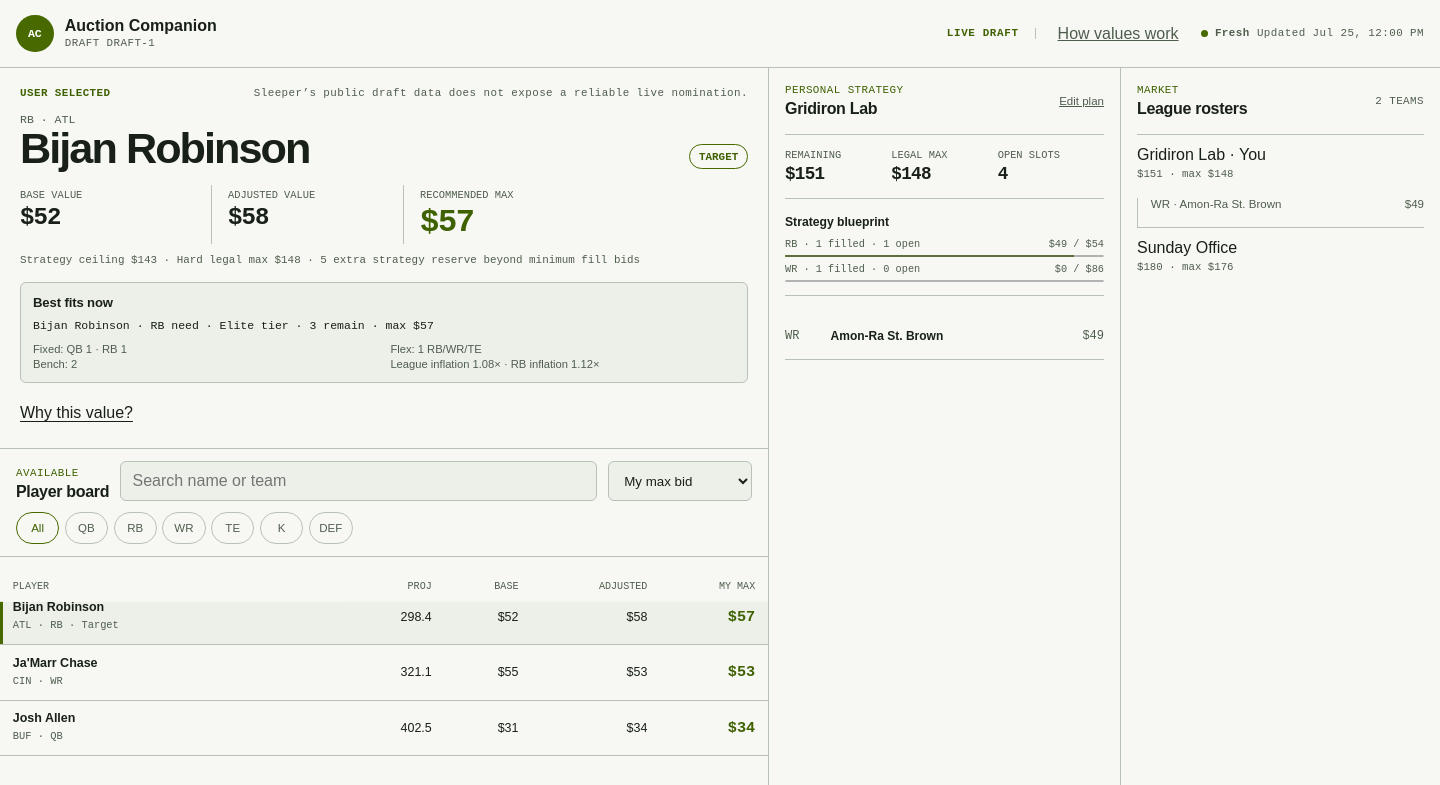
Test: DraftRoomView › reveals a target and strategy explanation on demand
Expected: the text "Target +$4.16" is not shown
Click the button "Why this value?" at {"x": 76, "y": 413}, box left=20, top=397, right=133, bottom=429
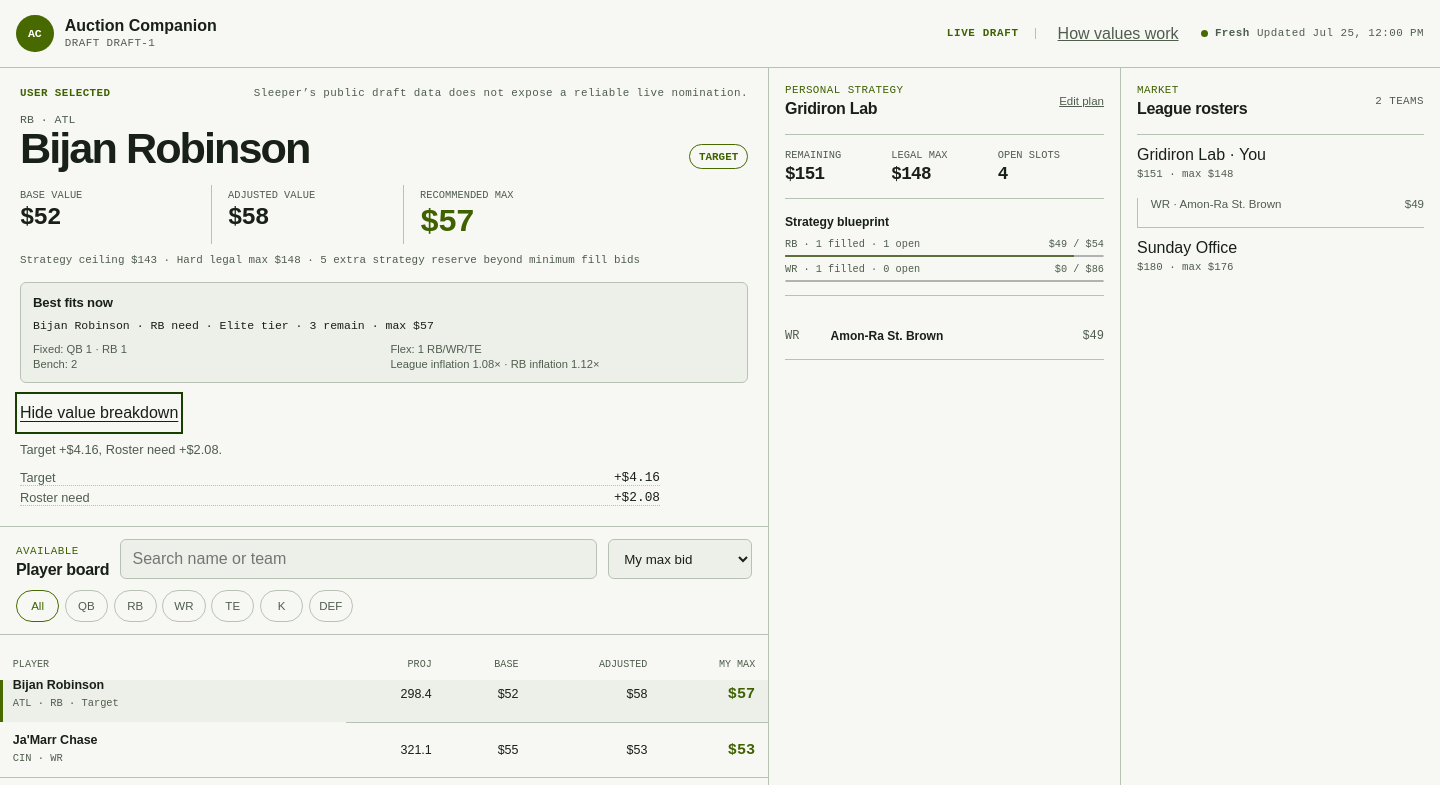
Now the text "Target +$4.16, Roster need +$2.08." is shown, box left=20, top=442, right=222, bottom=457
